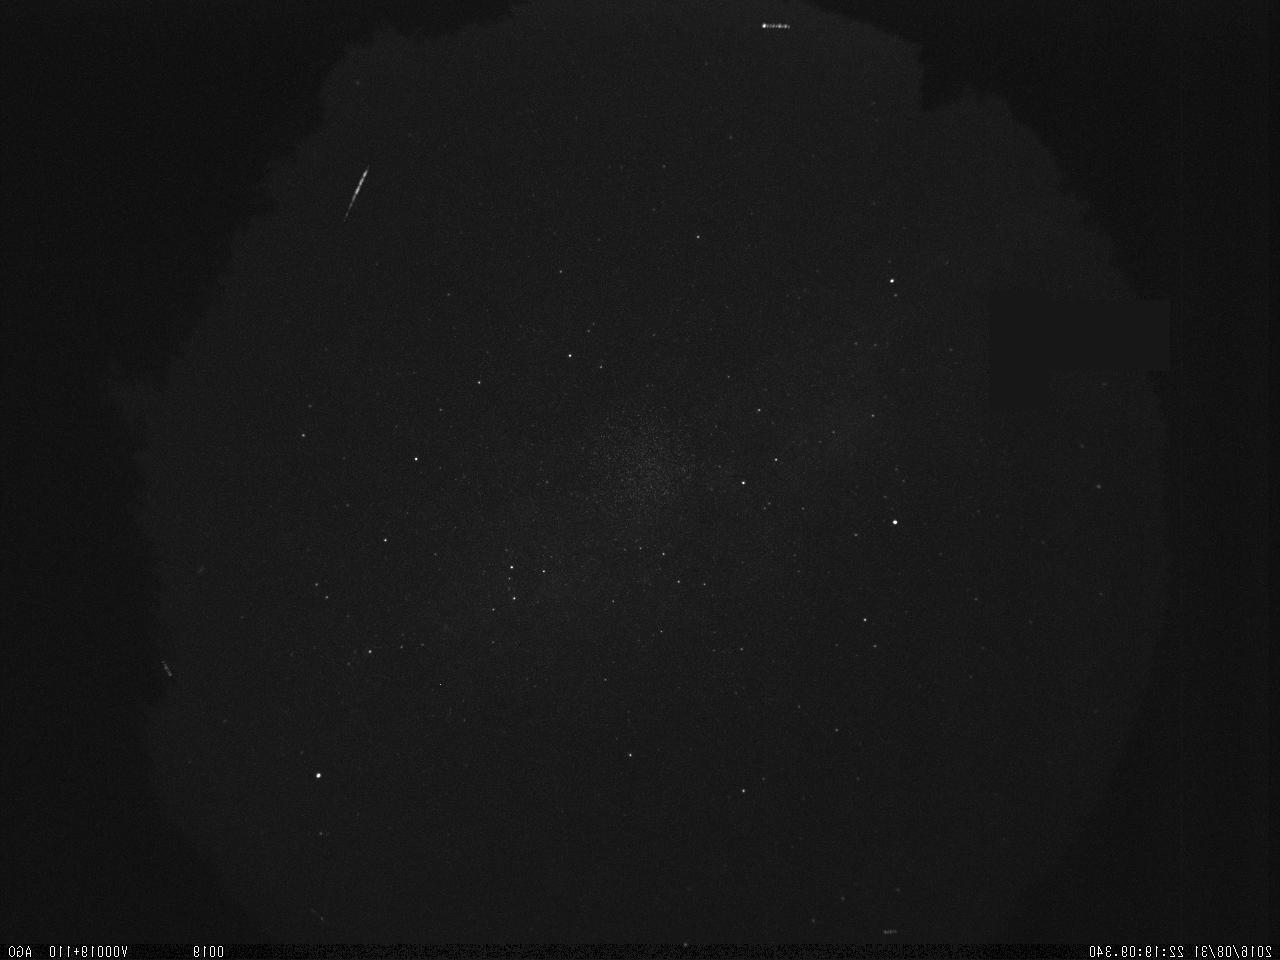meteor: (335, 161, 375, 224)
satelite: (755, 17, 797, 36)
